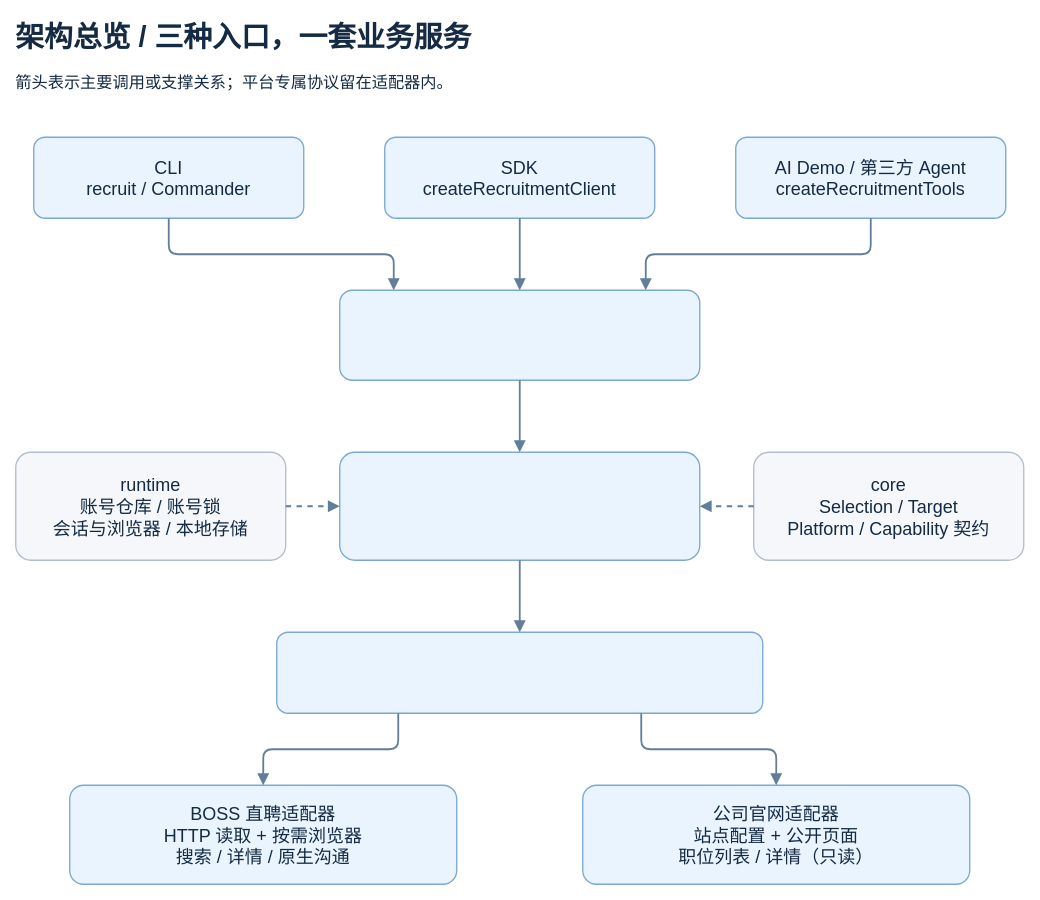
The diagram is 1040 pixels wide and 900 high, and some of its shapes have lost their labels. The shapes that lost their labels are listed below. From the top down, each one's centre as x and y in pixels, then its label:
At (519,335): "RecruitmentClient 账号锁 → withSession 在会话中调用业务服务".
At (519,506): "services discover：筛选与排序 OutreachService：计划与回执".
At (519,672): "PlatformSession.invoke 核对能力与角色，交给平台 handler".
